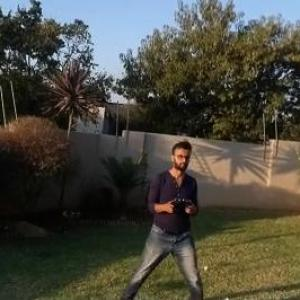follow: (121, 137, 204, 299)
